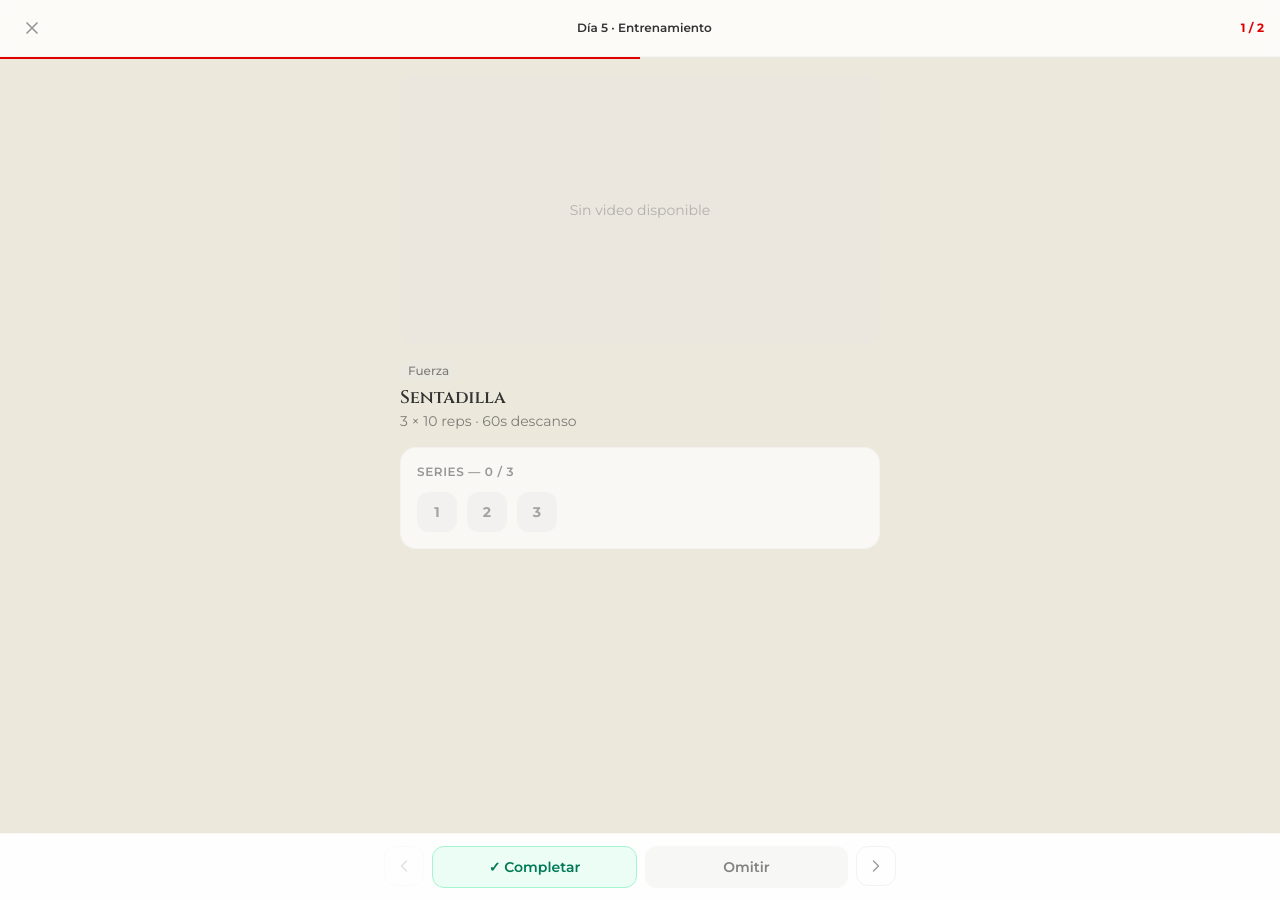
Test: WorkoutSession › advancing to next exercise changes the exercise displayed
Click next (right arrow button in footer — the rightmost button)
Click the 8th button.
click(876, 866)  # box [856,846,896,886]
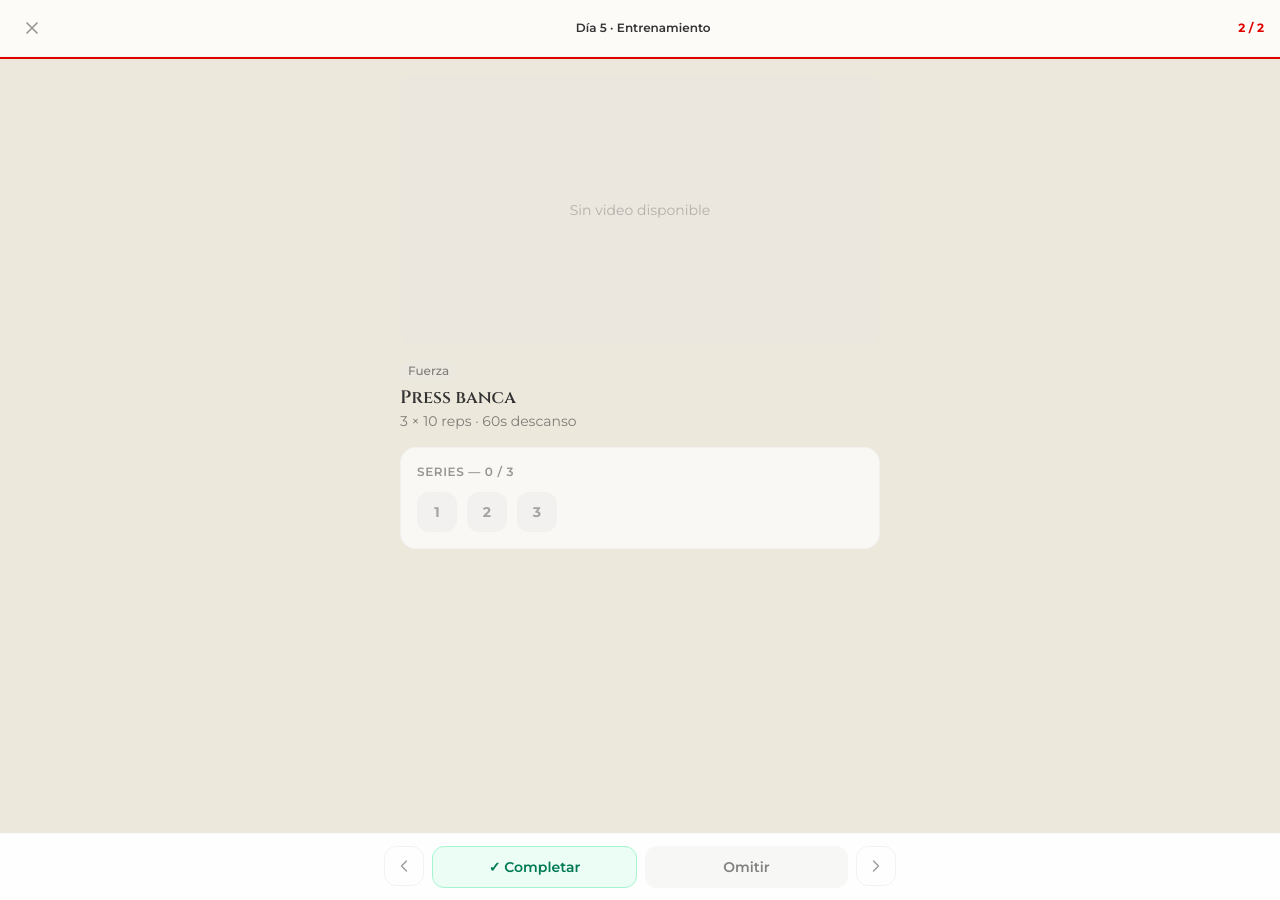
Now the heading "Press banca" is shown, box [400,385,516,410]
Now the text "2 / 2" is shown, box [1238,20,1264,36]
